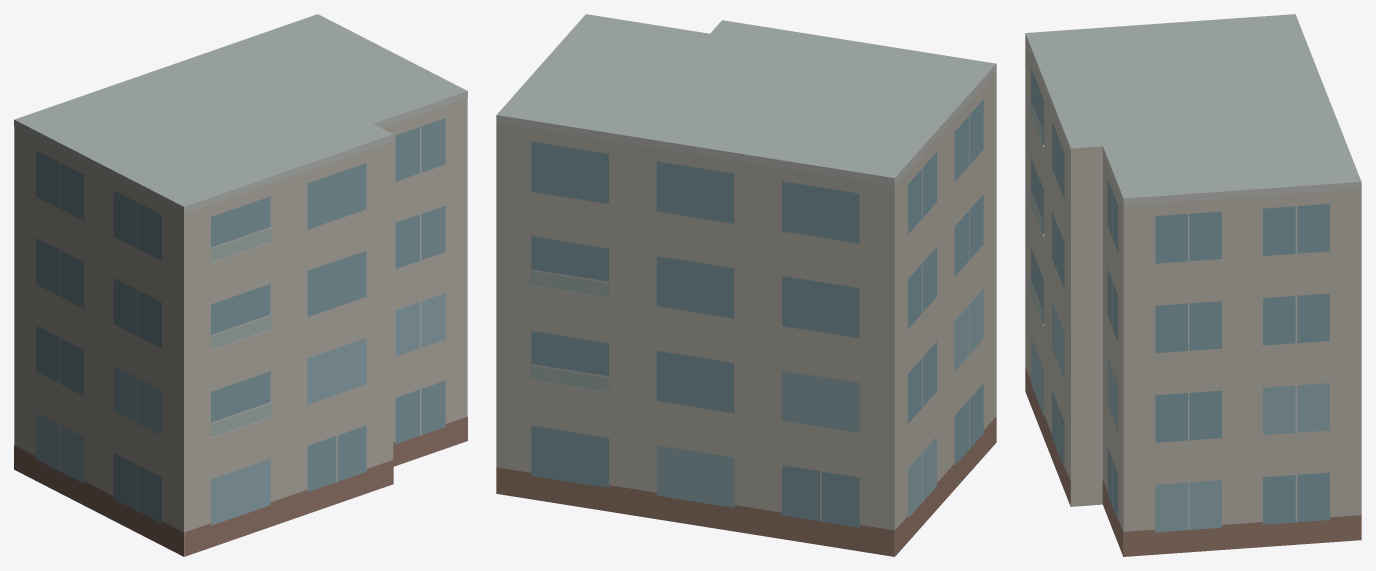
The model's file is residential-c6aa0bb2-a105-4433-934e-711da0705f22.glb.
3 renders of one model, left to right at view 1: azimuth 30°, elevation 25°; view 2: azimuth 150°, elevation 25°; view 3: azimuth 270°, elevation 25°, orthographic. The views are drawn at different scales.
Parts seen in each view (by area): view 1: residential-c6aa0bb2-a105-4433-934e-711da0705f22.tmp; view 2: residential-c6aa0bb2-a105-4433-934e-711da0705f22.tmp; view 3: residential-c6aa0bb2-a105-4433-934e-711da0705f22.tmp.
Part boxes in pixels (bbox=[...]): residential-c6aa0bb2-a105-4433-934e-711da0705f22.tmp: bbox=[14, 14, 467, 556]; residential-c6aa0bb2-a105-4433-934e-711da0705f22.tmp: bbox=[496, 14, 996, 556]; residential-c6aa0bb2-a105-4433-934e-711da0705f22.tmp: bbox=[1025, 14, 1361, 556].
Bounding box in the file's own units: 13.49 × 12.2 × 10.39.
